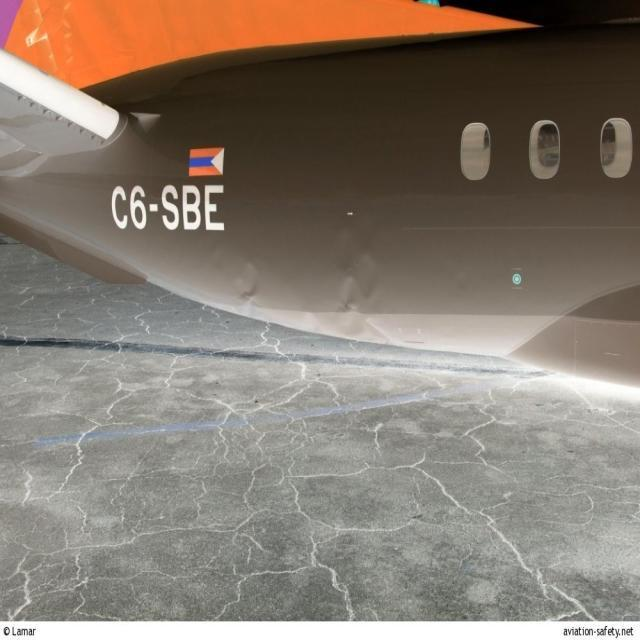dent: (329, 224, 384, 342), (227, 261, 266, 321)
